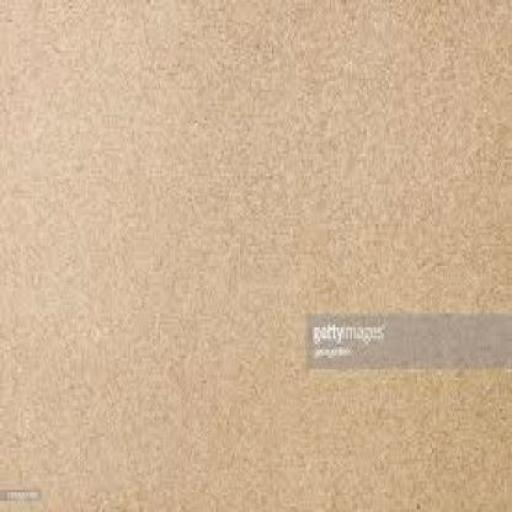cardboard: (0, 0, 511, 510)
